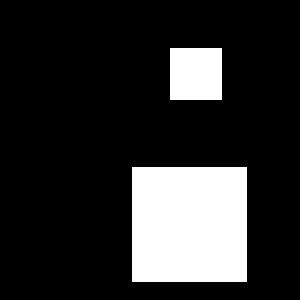circle: (132, 167, 247, 282), (170, 48, 222, 100)
rectangle: (162, 195, 188, 221)
